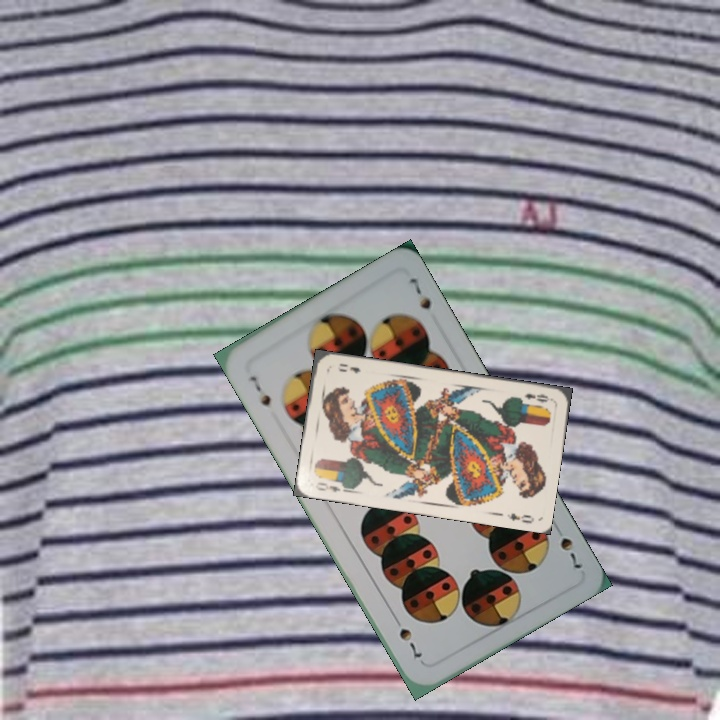EO: (311, 476, 350, 495), (521, 389, 554, 406)
S7: (556, 533, 585, 572), (245, 372, 274, 409)
